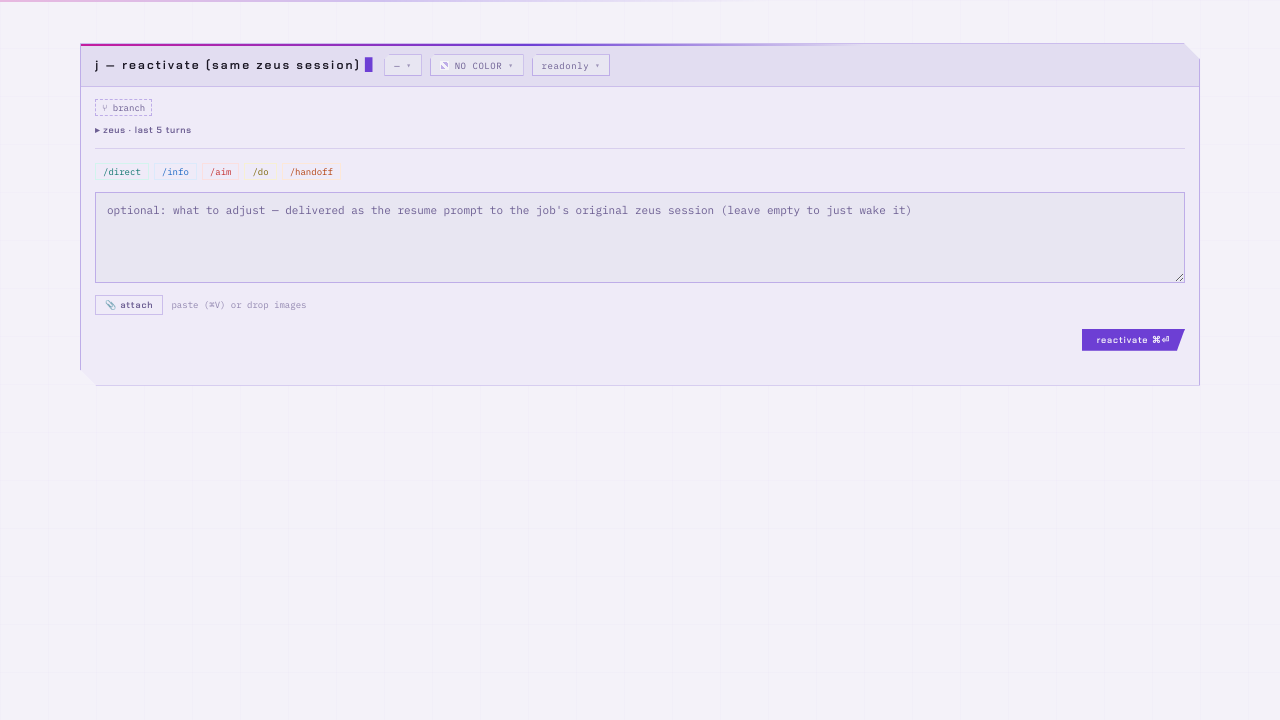
Test case: steer mode matrix › refuses an empty reactivate when requireText is set
Step 1. Click the button "reactivate ⌘⏎" → (1133, 340), box [1082,329,1185,351]
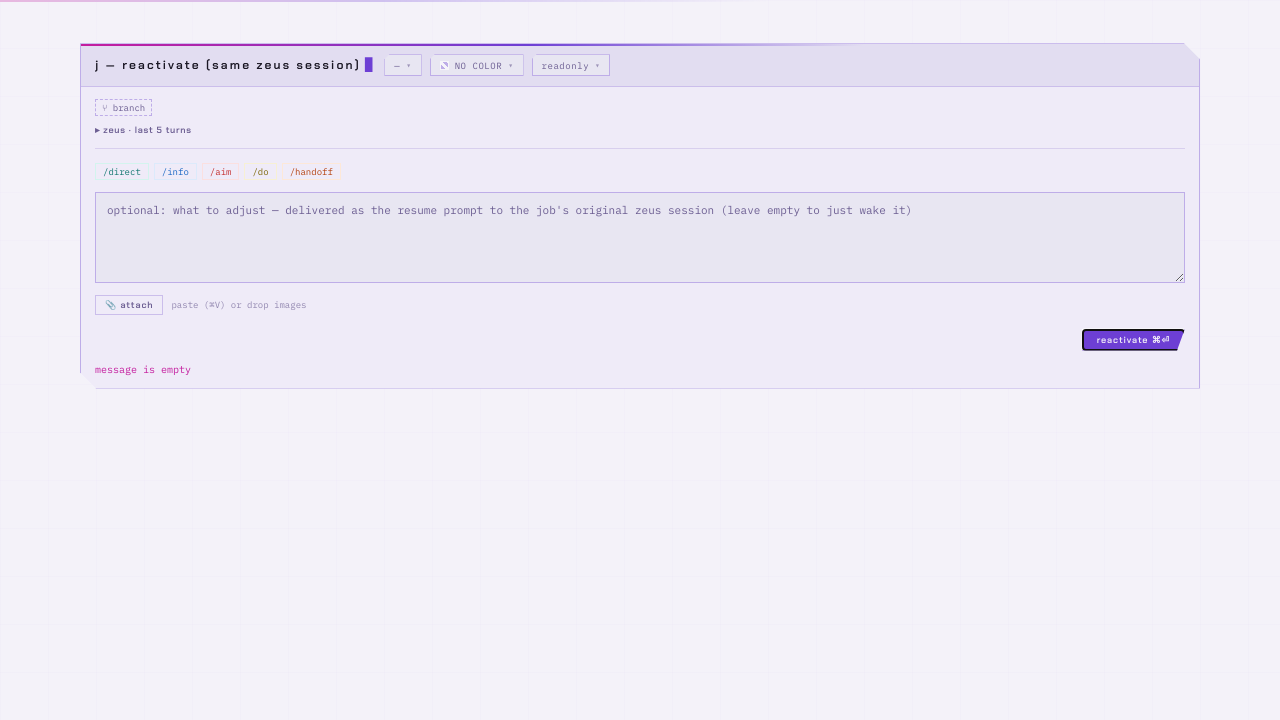
Expected: the text with id "steer-note" reads "message is empty", [95,363,191,376]
